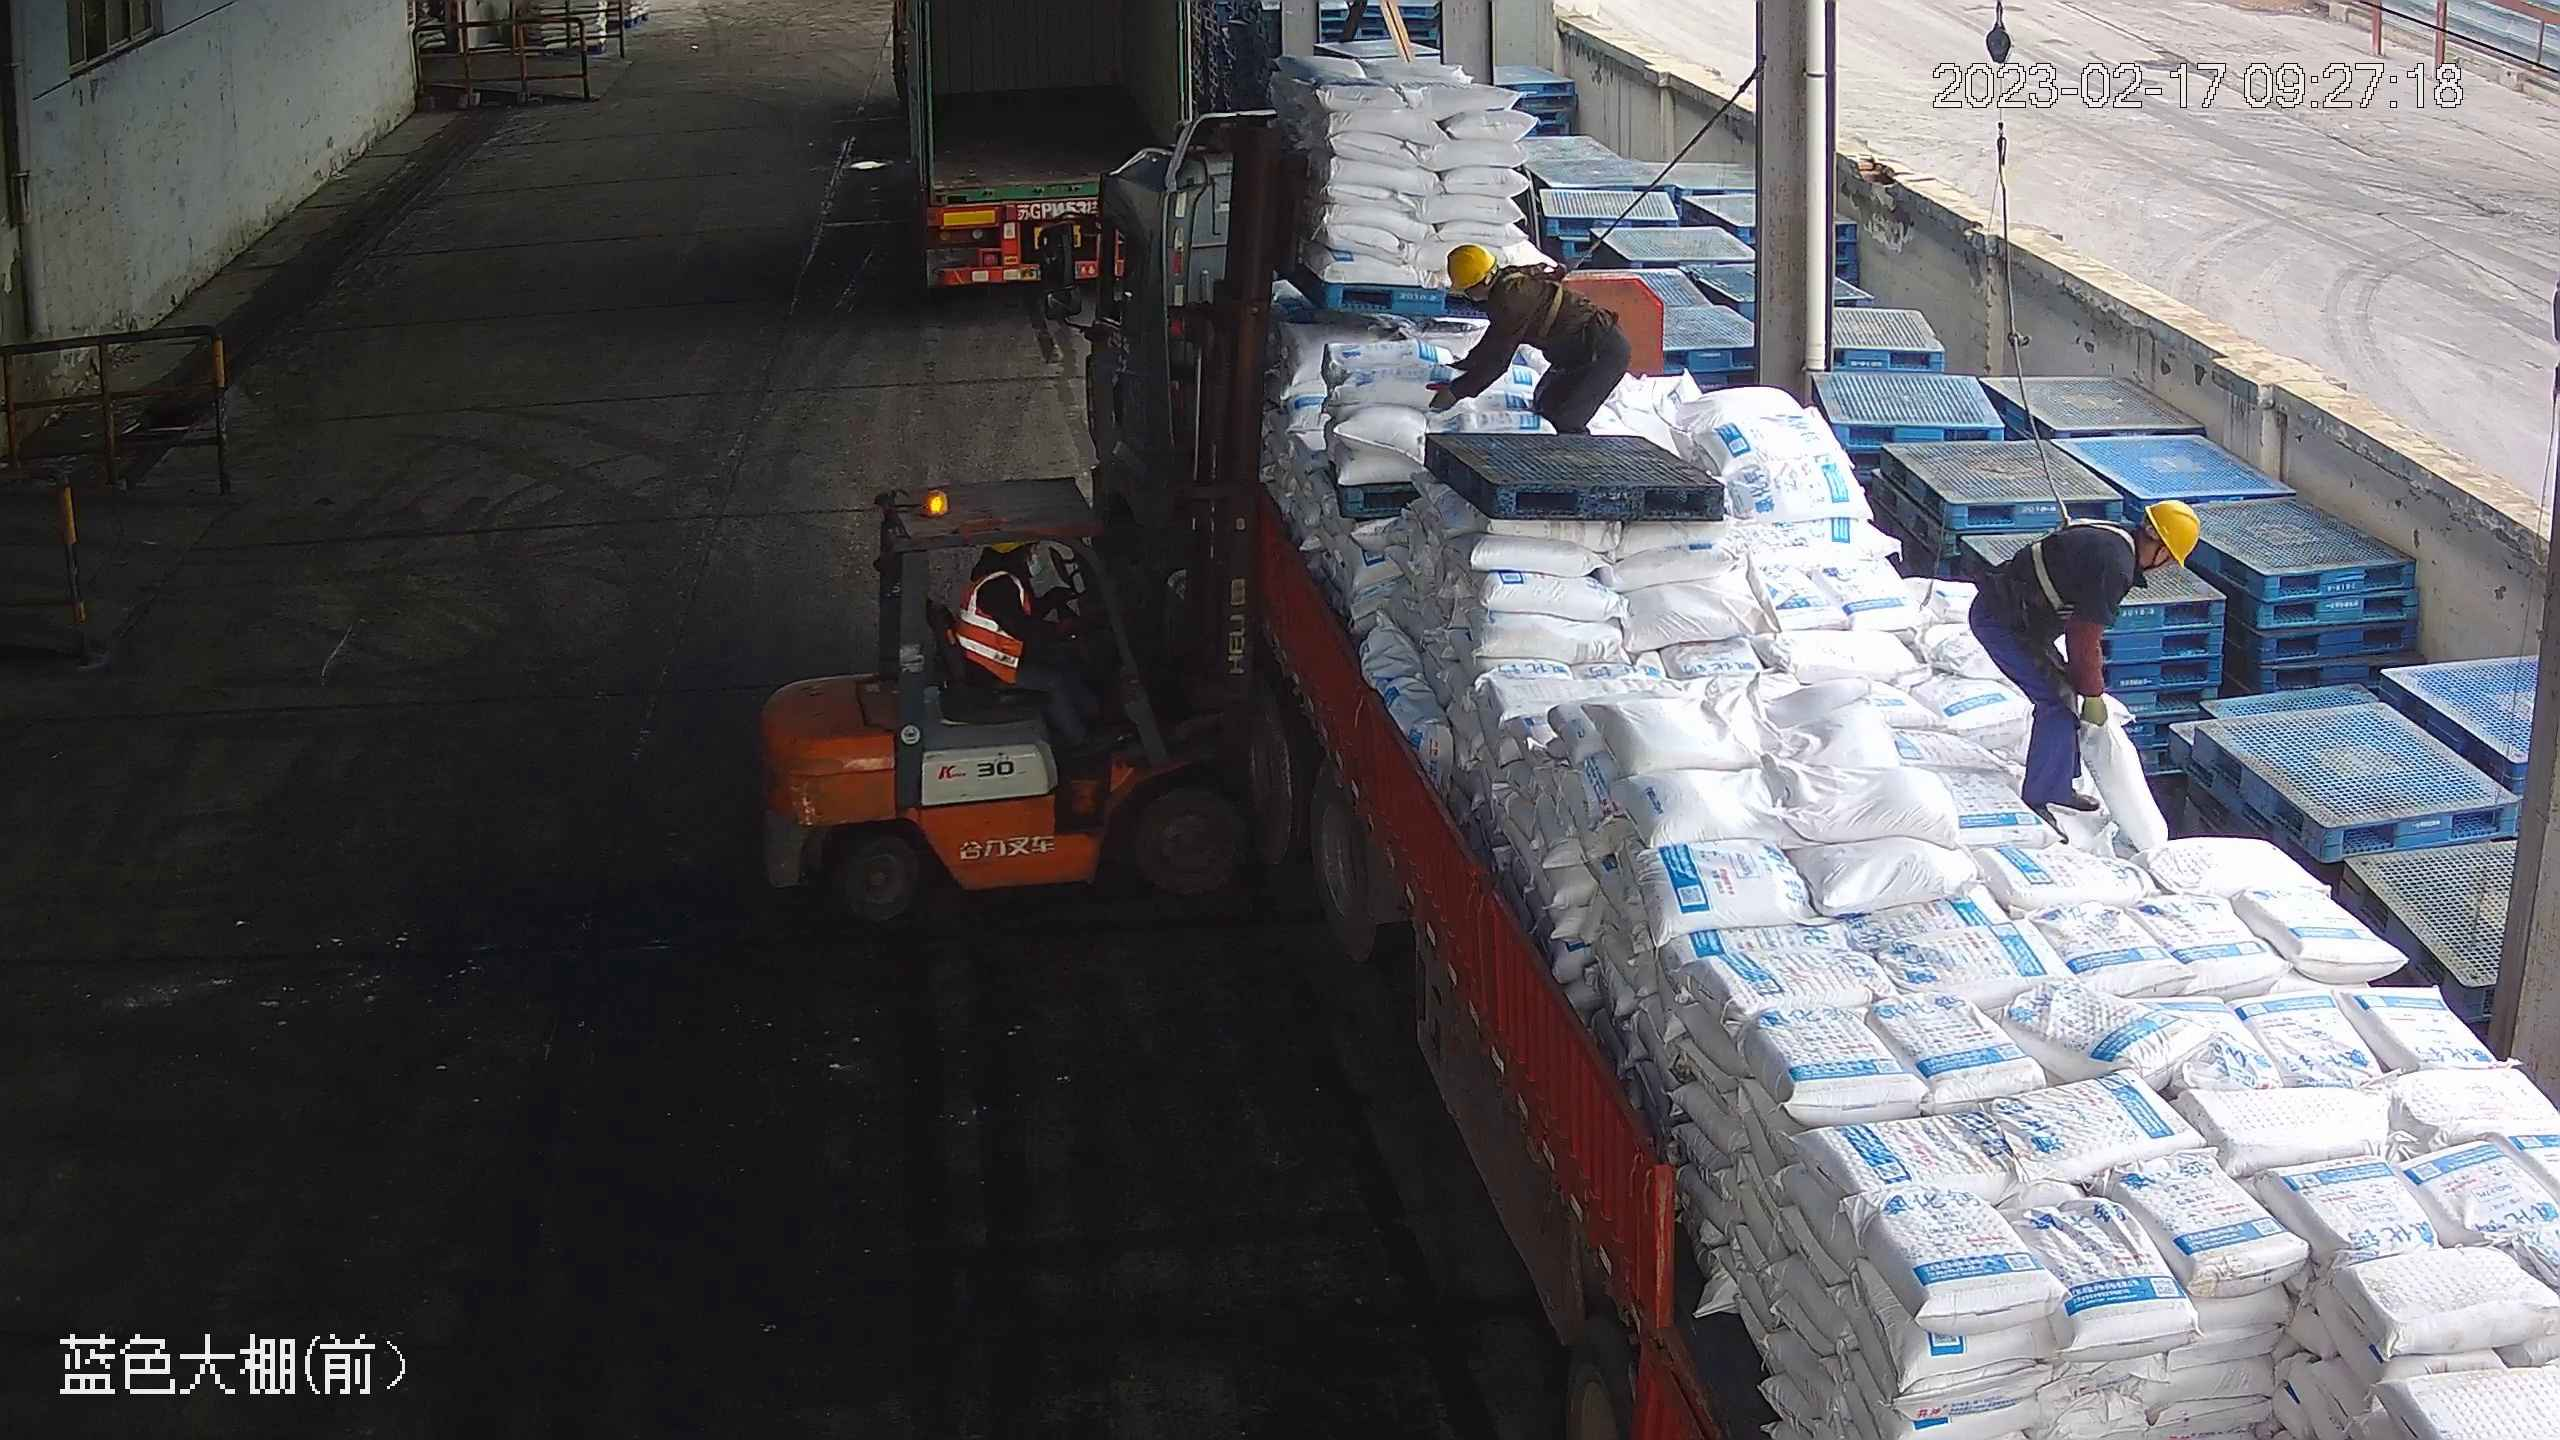belt: (2020, 514, 2145, 616), (1502, 258, 1581, 341)
head: (2063, 496, 2199, 606), (1445, 240, 1544, 325)
helmet: (2144, 495, 2200, 567), (1445, 242, 1496, 291)
people: (1965, 500, 2204, 828), (1424, 243, 1638, 437), (951, 536, 1119, 748)
truck: (1054, 83, 2539, 1435), (884, 1, 1206, 303)
